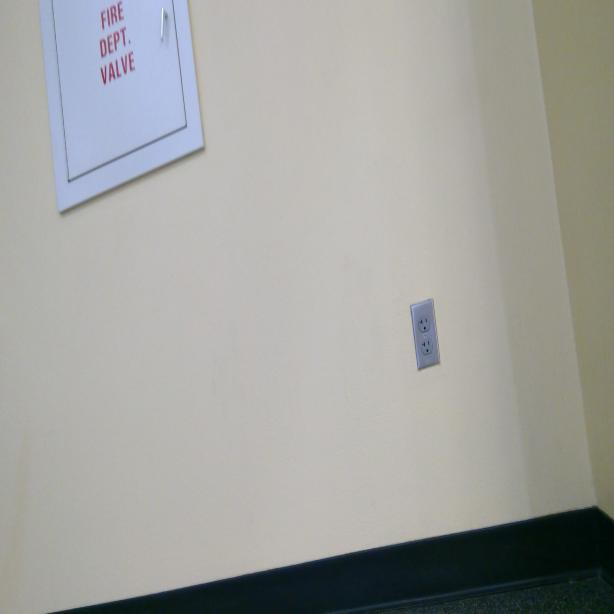typeb: (420, 336, 434, 354), (419, 312, 431, 333)
